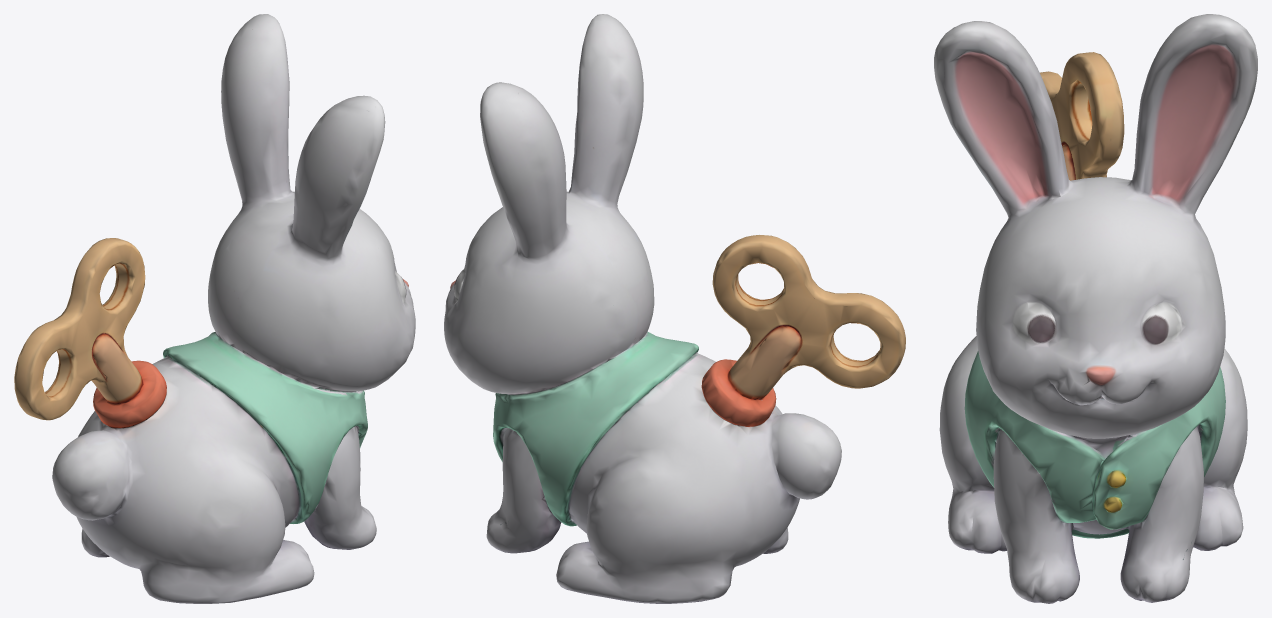
3 views of the same model, side by side, from view 1: azimuth 30°, elevation 25°; view 2: azimuth 150°, elevation 25°; view 3: azimuth 270°, elevation 25° (orthographic). The views are drawn at different scales.
Parts seen in each view (by area): view 1: repaired; view 2: repaired; view 3: repaired.
Part boxes in pixels (left/top/right/bottom): repaired: left=14, top=14, right=415, bottom=603; repaired: left=444, top=14, right=905, bottom=603; repaired: left=934, top=14, right=1257, bottom=603.
Size of the model in its own units: 0.9198 by 1 by 0.514.
1 material, 1 textured.
